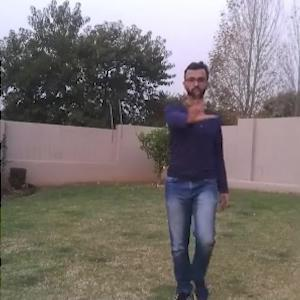follow_hand: (183, 86, 217, 126)
